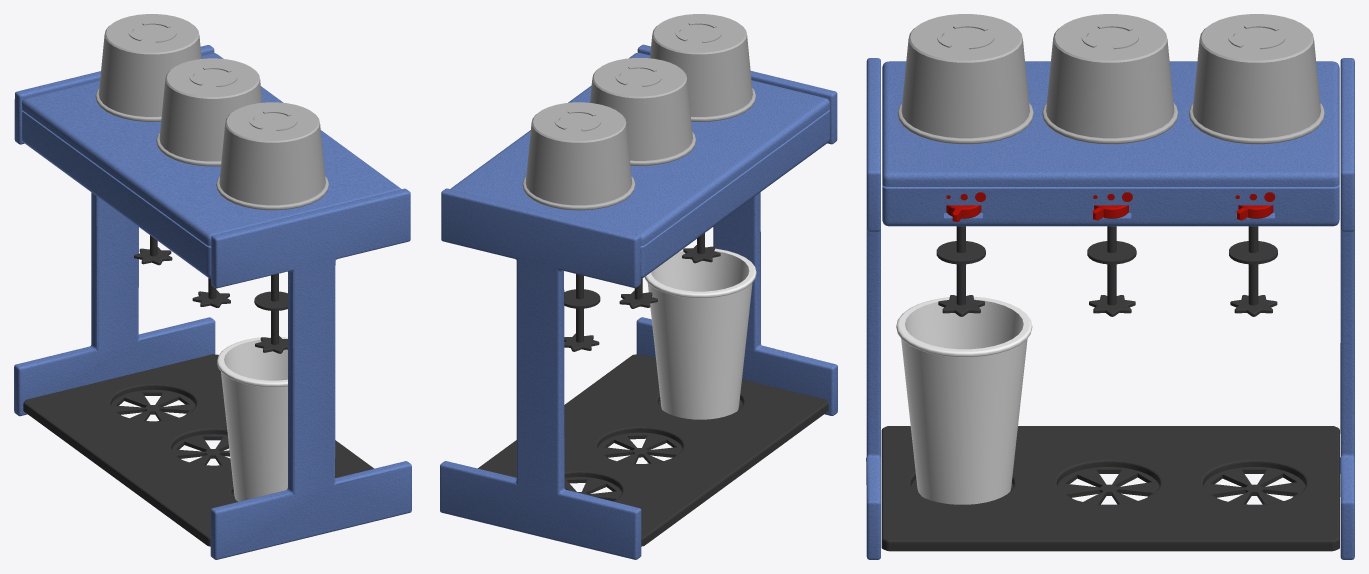
The model's file is мииксер.FBX.
3 views of the same model, side by side, from view 1: azimuth 30°, elevation 25°; view 2: azimuth 150°, elevation 25°; view 3: azimuth 270°, elevation 25° (orthographic). The views are drawn at different scales.
Visible parts, largest first — view 1: Box004, Line009; view 2: Box004, Line009; view 3: Box004, Line009.
Part boxes in pixels (left/top/right/bottom): Box004: left=14, top=14, right=411, bottom=559; Line009: left=217, top=337, right=287, bottom=501; Box004: left=440, top=14, right=837, bottom=559; Line009: left=644, top=248, right=756, bottom=419; Box004: left=866, top=14, right=1354, bottom=559; Line009: left=896, top=297, right=1032, bottom=504.
Bounding box in the file's own units: 24.25 × 43.22 × 41.04.
Materials: 5 (1 with a texture image).
